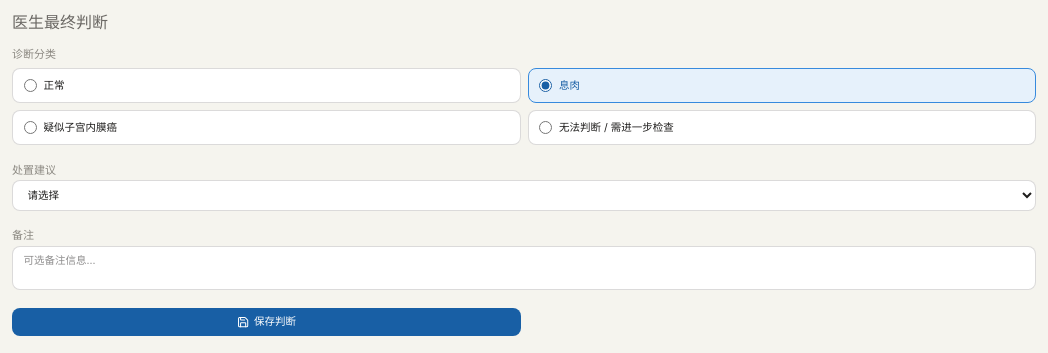
Test: JudgmentForm › becomes clean immediately after an awaited save succeeds
The width and height of the screenshot is (1048, 353).
Type "已编辑" into the text box labelled "备注".
click(524, 268); type("已编辑")  # box top-left (12, 246), bottom-right (1036, 290)
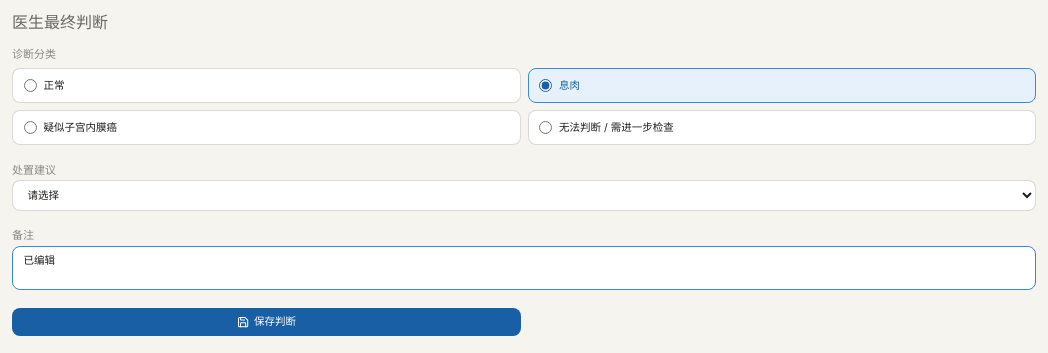
Click the button "保存判断".
click(266, 322)  # box top-left (12, 308), bottom-right (520, 336)
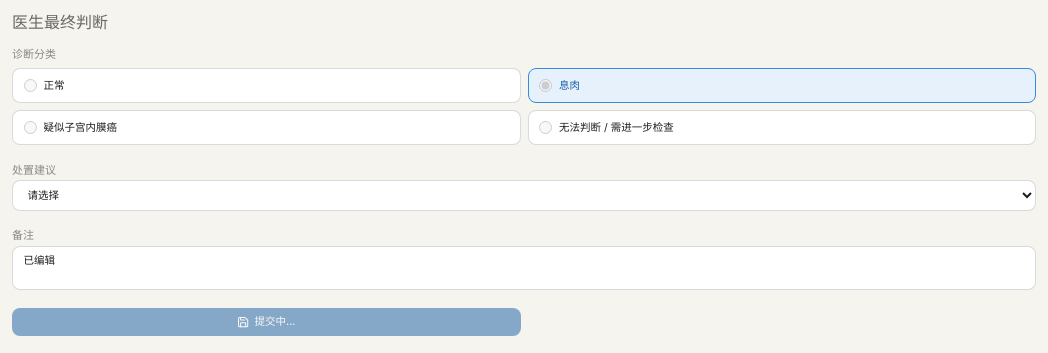
Expected: the button "提交中..." is disabled
Click the button "提交中...".
click(266, 322)  # box top-left (12, 308), bottom-right (520, 336)
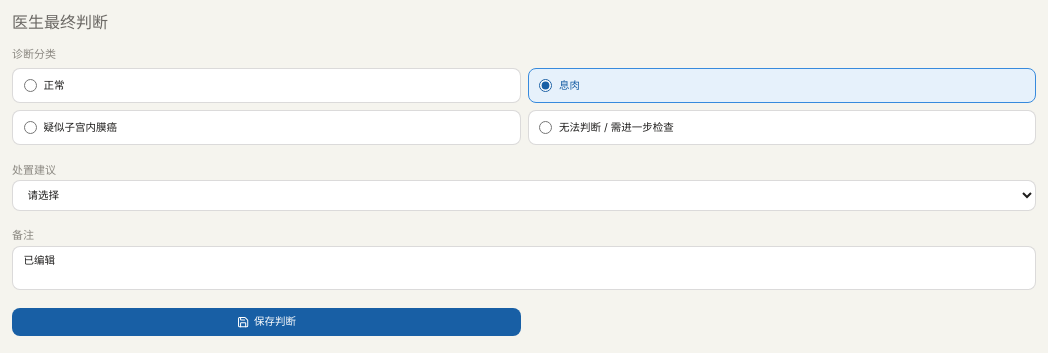
Expected: the button "保存判断" is enabled, top-left (12, 308), bottom-right (520, 336)
